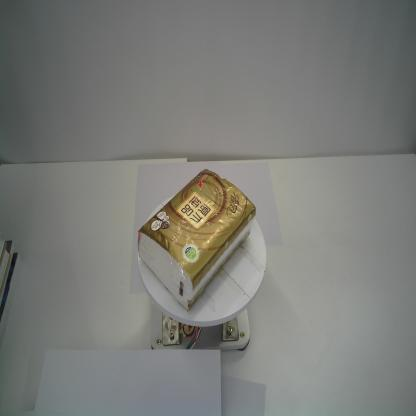Tissue: (137, 168, 257, 313)
